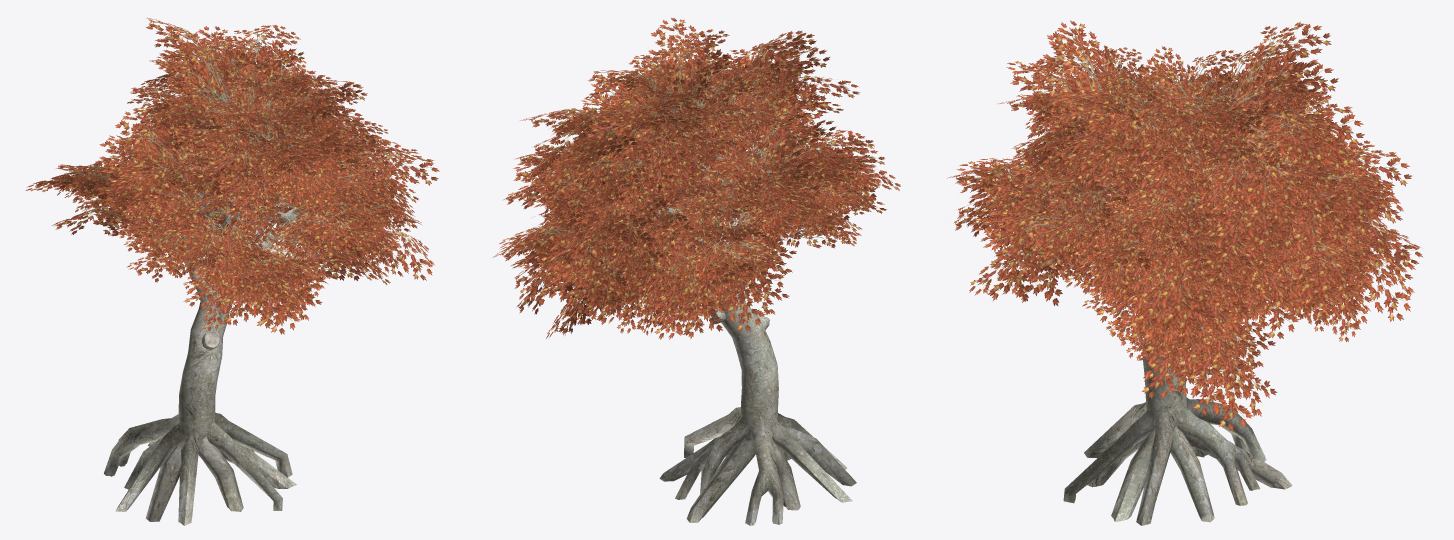
File: tree-five.glb
3 renders of one model, left to right at view 1: azimuth 30°, elevation 25°; view 2: azimuth 150°, elevation 25°; view 3: azimuth 270°, elevation 25°, orthographic. The views are drawn at different scales.
Visible parts, largest first — view 1: yggrassil_02_leaves_0, yggrassil_02_bark_0; view 2: yggrassil_02_leaves_0, yggrassil_02_bark_0; view 3: yggrassil_02_leaves_0, yggrassil_02_bark_0.
Part boxes in pixels (bbox=[...]): yggrassil_02_leaves_0: bbox=[25, 17, 439, 334]; yggrassil_02_bark_0: bbox=[104, 86, 341, 525]; yggrassil_02_leaves_0: bbox=[493, 18, 900, 339]; yggrassil_02_bark_0: bbox=[647, 105, 856, 525]; yggrassil_02_leaves_0: bbox=[947, 20, 1422, 431]; yggrassil_02_bark_0: bbox=[1063, 126, 1292, 525].
Size of the model in its own units: 1002 by 1172 by 1152.
Materials: 4 (3 with a texture image).
